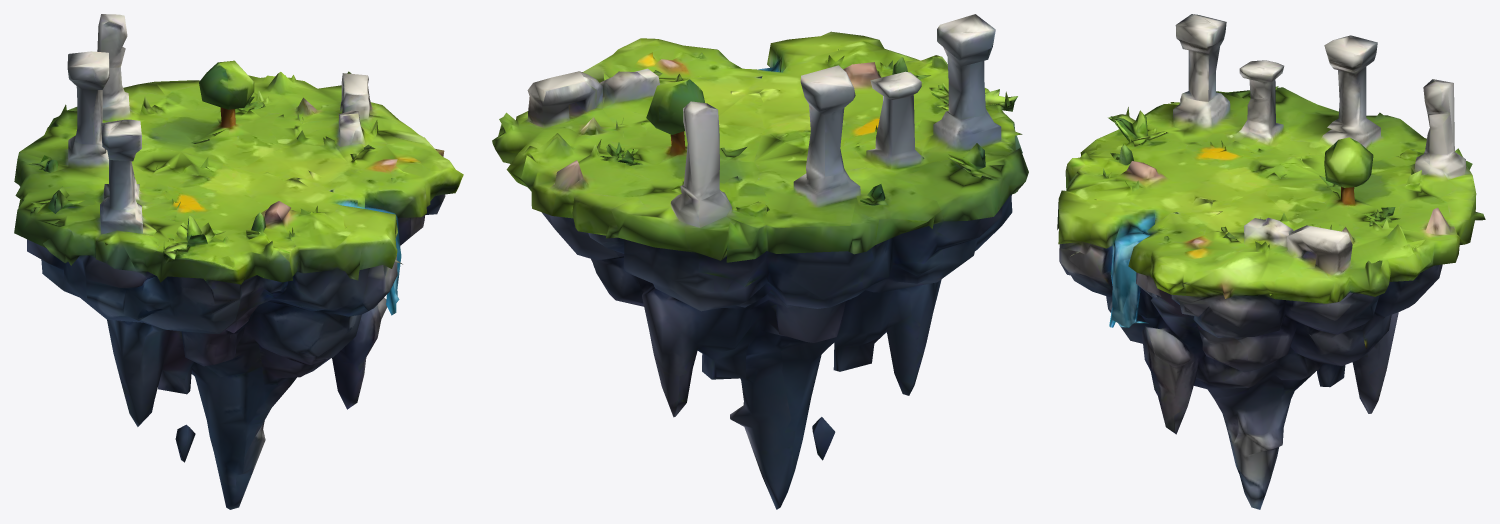
Rendered from skyisle.glb.
3 views of the same model, side by side, from view 1: azimuth 30°, elevation 25°; view 2: azimuth 150°, elevation 25°; view 3: azimuth 270°, elevation 25° (orthographic). The views are drawn at different scales.
Visible parts, largest first — view 1: tripo_node_fd0abfe9-1a67-4390-8e77-e52af0b64d86; view 2: tripo_node_fd0abfe9-1a67-4390-8e77-e52af0b64d86; view 3: tripo_node_fd0abfe9-1a67-4390-8e77-e52af0b64d86.
Boxes of the visible parts, <box> form: tripo_node_fd0abfe9-1a67-4390-8e77-e52af0b64d86: <box>14,14,463,509</box>; tripo_node_fd0abfe9-1a67-4390-8e77-e52af0b64d86: <box>492,14,1028,509</box>; tripo_node_fd0abfe9-1a67-4390-8e77-e52af0b64d86: <box>1057,14,1485,509</box>.
Bounding box in the file's own units: 0.9629 × 0.9999 × 0.9178.
1 material, 1 textured.
